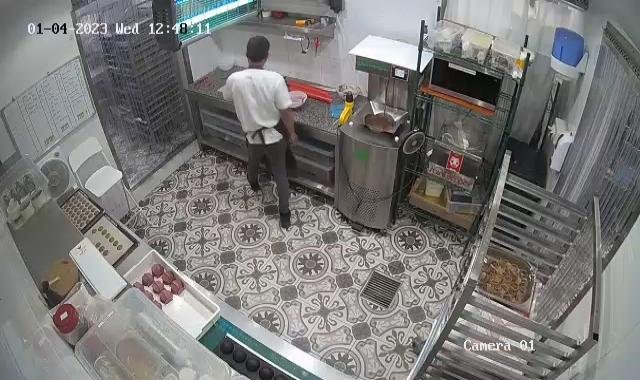no_hairnet: (244, 33, 271, 66)
